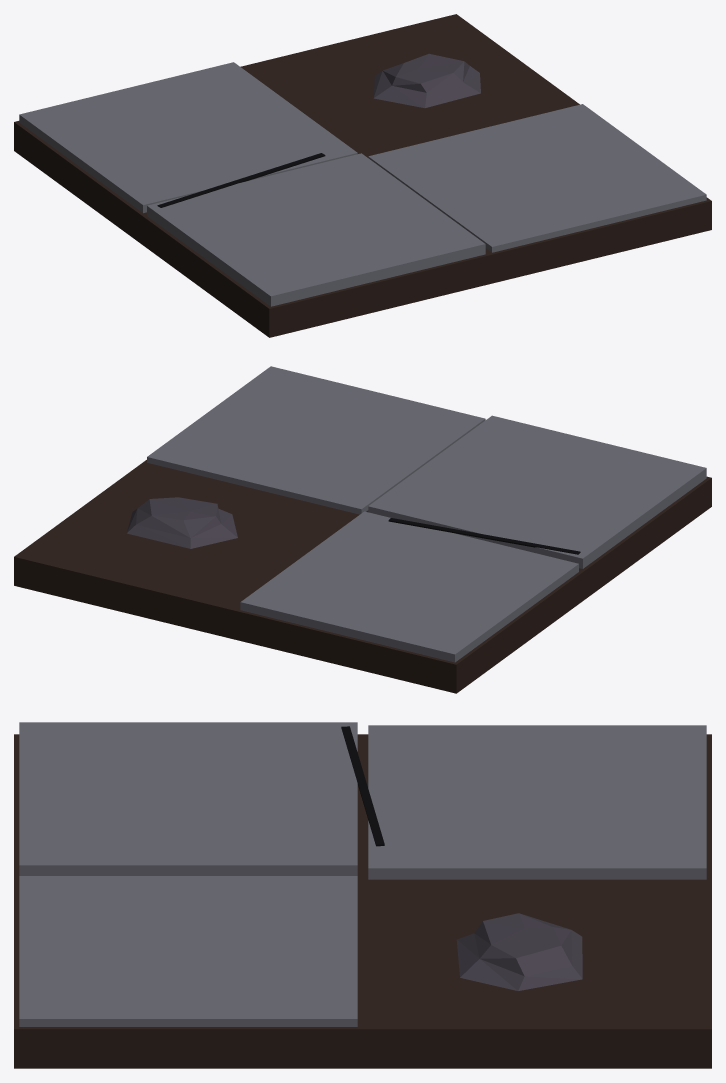
The model's file is floor_cracked.fbx.
3 renders of one model, top to bottom at view 1: azimuth 30°, elevation 25°; view 2: azimuth 150°, elevation 25°; view 3: azimuth 270°, elevation 25°, orthographic. The views are drawn at different scales.
Parts seen in each view (by area): view 1: floor_cracked; view 2: floor_cracked; view 3: floor_cracked.
Boxes of the visible parts, bbox=[...] form: floor_cracked: bbox=[14, 14, 711, 337]; floor_cracked: bbox=[14, 366, 711, 693]; floor_cracked: bbox=[14, 722, 711, 1068].
Bounding box in the file's own units: 4 × 0.4346 × 4.
